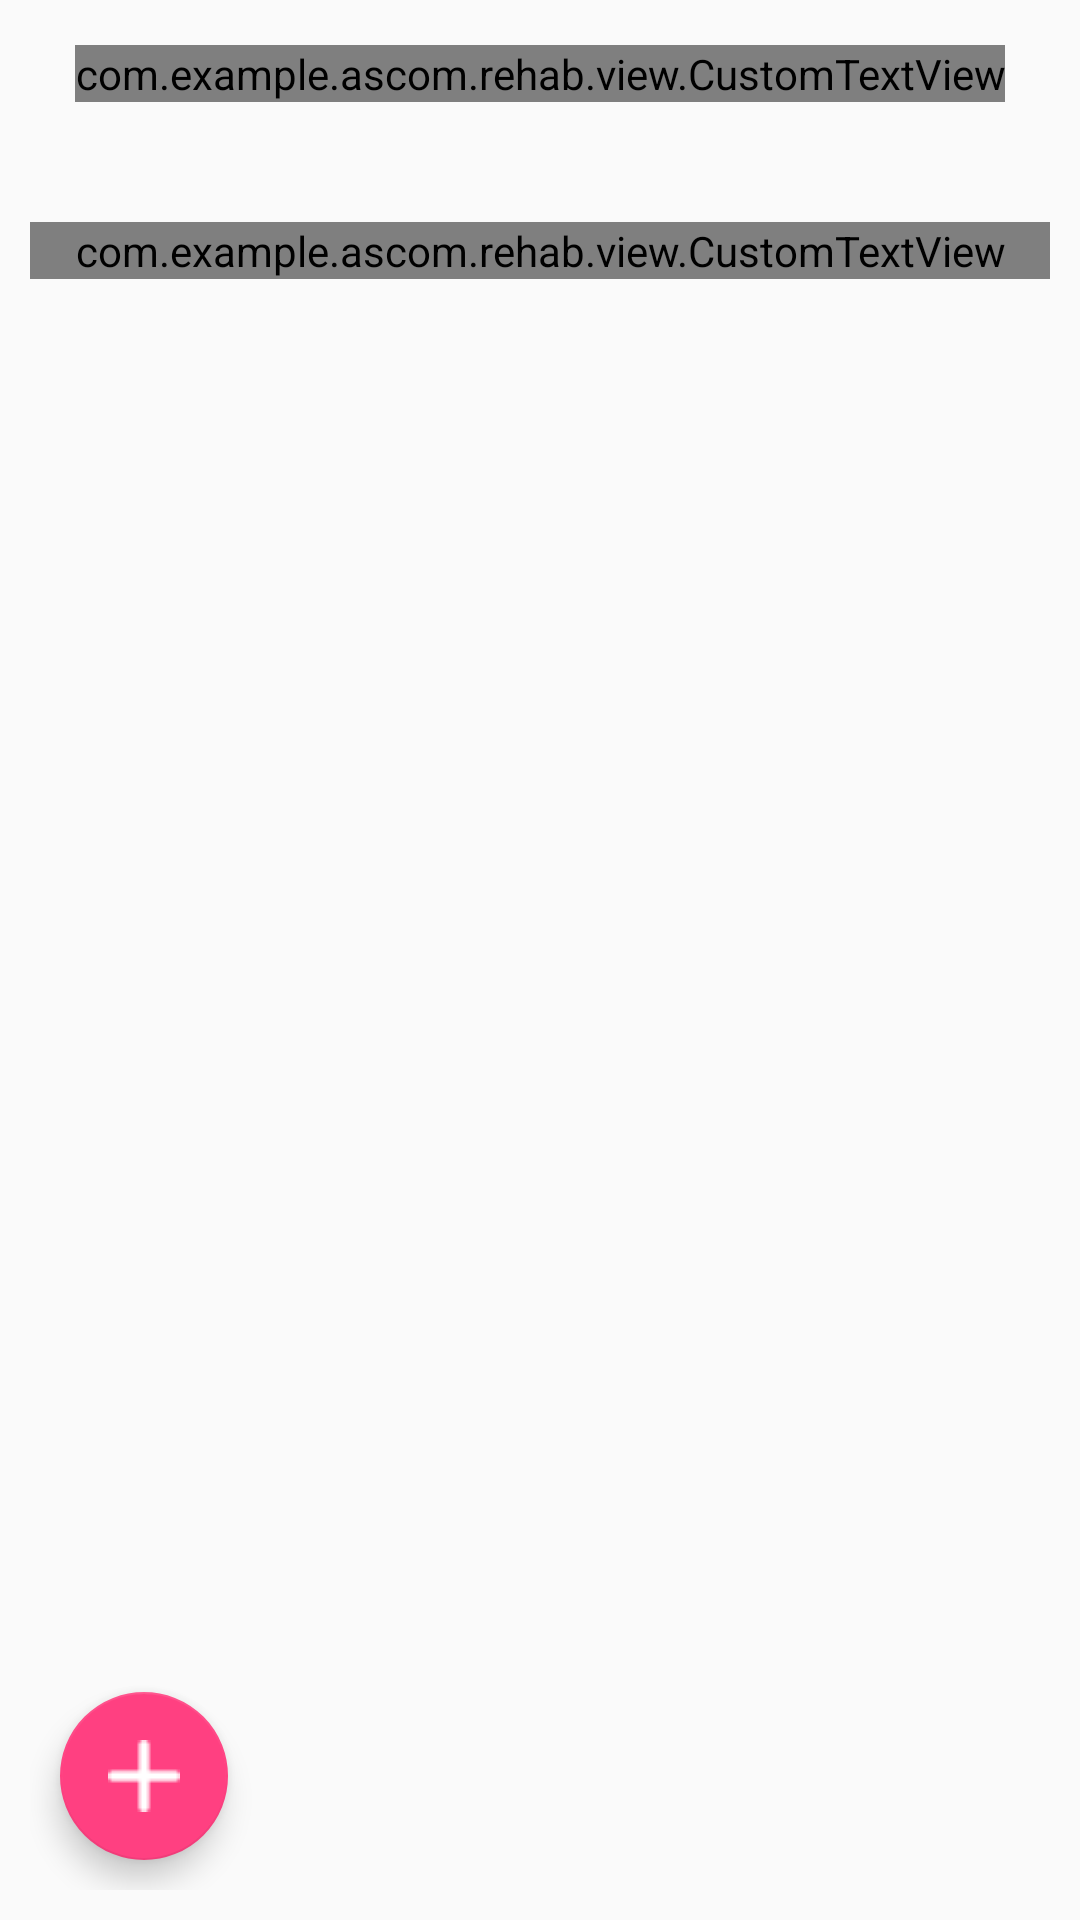

Screen size 1080px x 1920px. Icon name, then its box in pixels as (x1, y1, x2, y2):
add: (60, 1692, 228, 1860)
